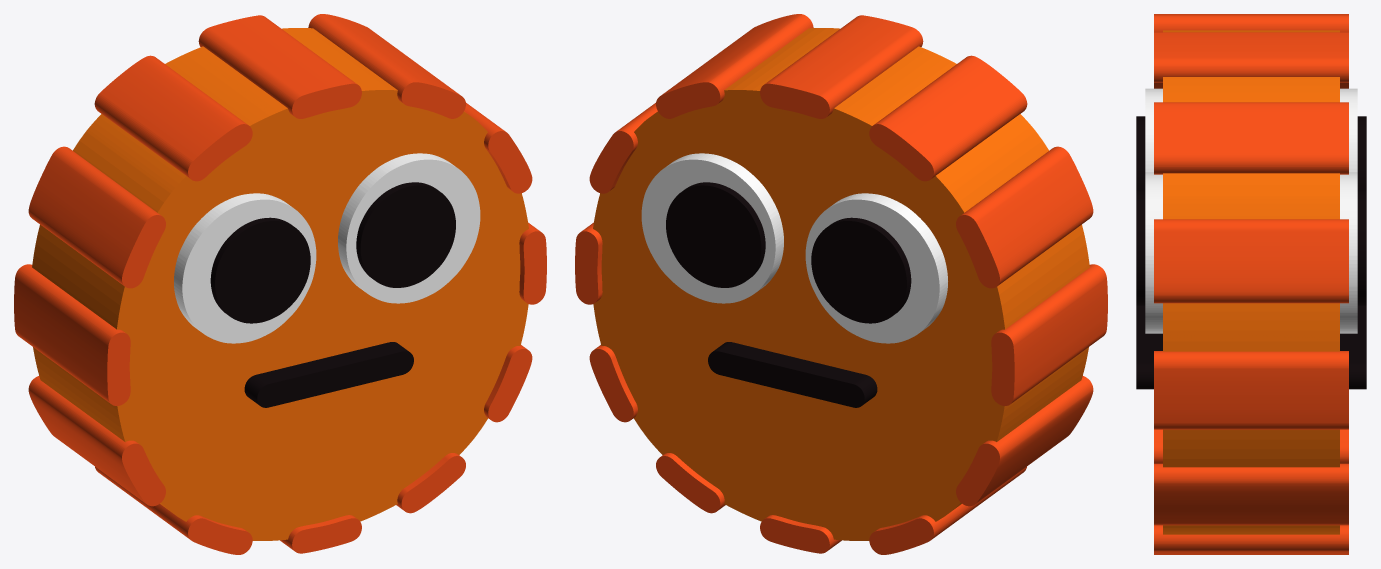
Rendered from U+1FAE5.obj.
3 views of the same model, side by side, from view 1: azimuth 30°, elevation 25°; view 2: azimuth 150°, elevation 25°; view 3: azimuth 270°, elevation 25° (orthographic). The views are drawn at different scales.
Visible parts, largest first — view 1: U+1FAE5_layer00_obj00, U+1FAE5_layer01_obj00, U+1FAE5_layer03_obj00, U+1FAE5_layer02_obj00; view 2: U+1FAE5_layer00_obj00, U+1FAE5_layer01_obj00, U+1FAE5_layer03_obj00, U+1FAE5_layer02_obj00; view 3: U+1FAE5_layer01_obj00, U+1FAE5_layer00_obj00, U+1FAE5_layer03_obj00, U+1FAE5_layer02_obj00.
Part boxes in pixels (left/top/right/bottom): U+1FAE5_layer00_obj00: left=32, top=28, right=528, bottom=540; U+1FAE5_layer01_obj00: left=14, top=14, right=546, bottom=554; U+1FAE5_layer03_obj00: left=210, top=182, right=455, bottom=407; U+1FAE5_layer02_obj00: left=174, top=153, right=480, bottom=343; U+1FAE5_layer00_obj00: left=593, top=28, right=1089, bottom=540; U+1FAE5_layer01_obj00: left=575, top=14, right=1107, bottom=554; U+1FAE5_layer03_obj00: left=666, top=182, right=911, bottom=407; U+1FAE5_layer02_obj00: left=641, top=153, right=947, bottom=343; U+1FAE5_layer01_obj00: left=1154, top=14, right=1348, bottom=554; U+1FAE5_layer00_obj00: left=1163, top=30, right=1339, bottom=534; U+1FAE5_layer03_obj00: left=1136, top=116, right=1366, bottom=389; U+1FAE5_layer02_obj00: left=1145, top=88, right=1357, bottom=333.
Size of the model in its own units: 0.5983 by 0.5982 by 0.26.
